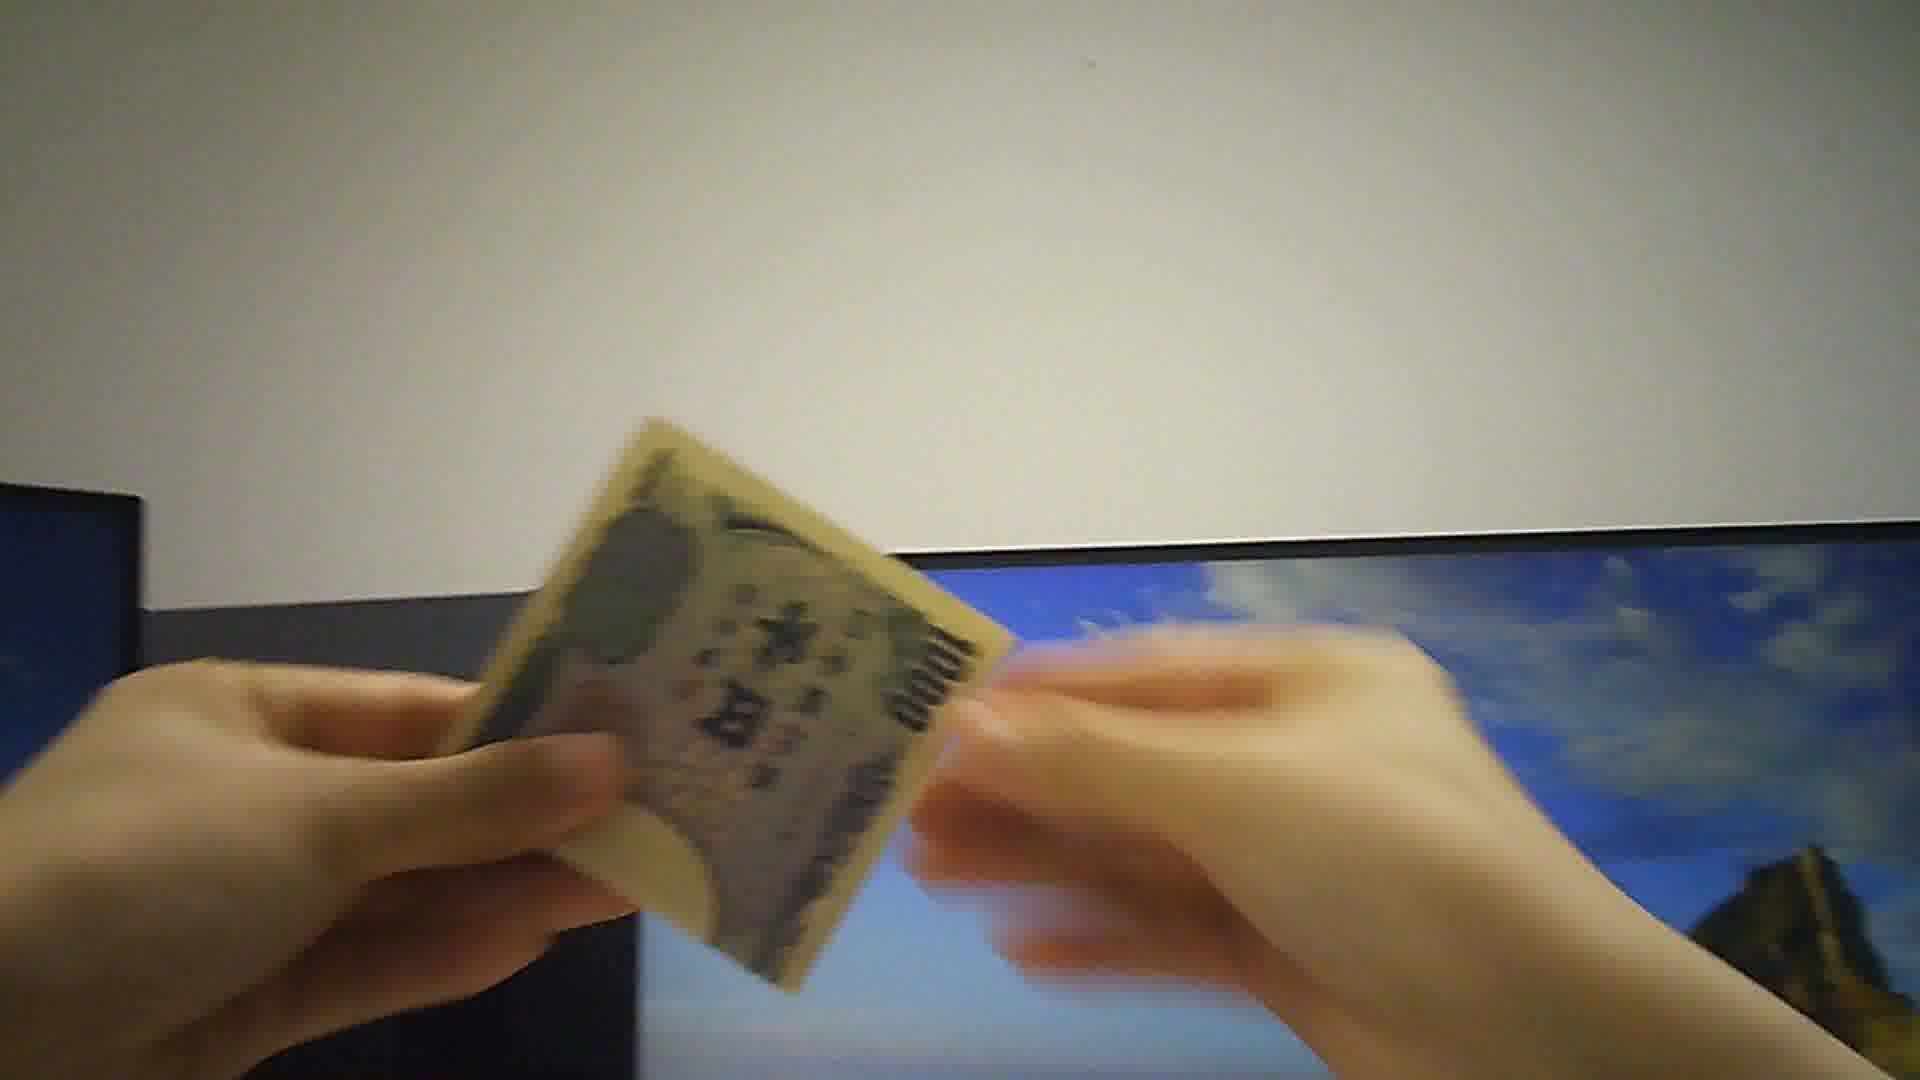1,000 Yen: (430, 411, 997, 1006)
